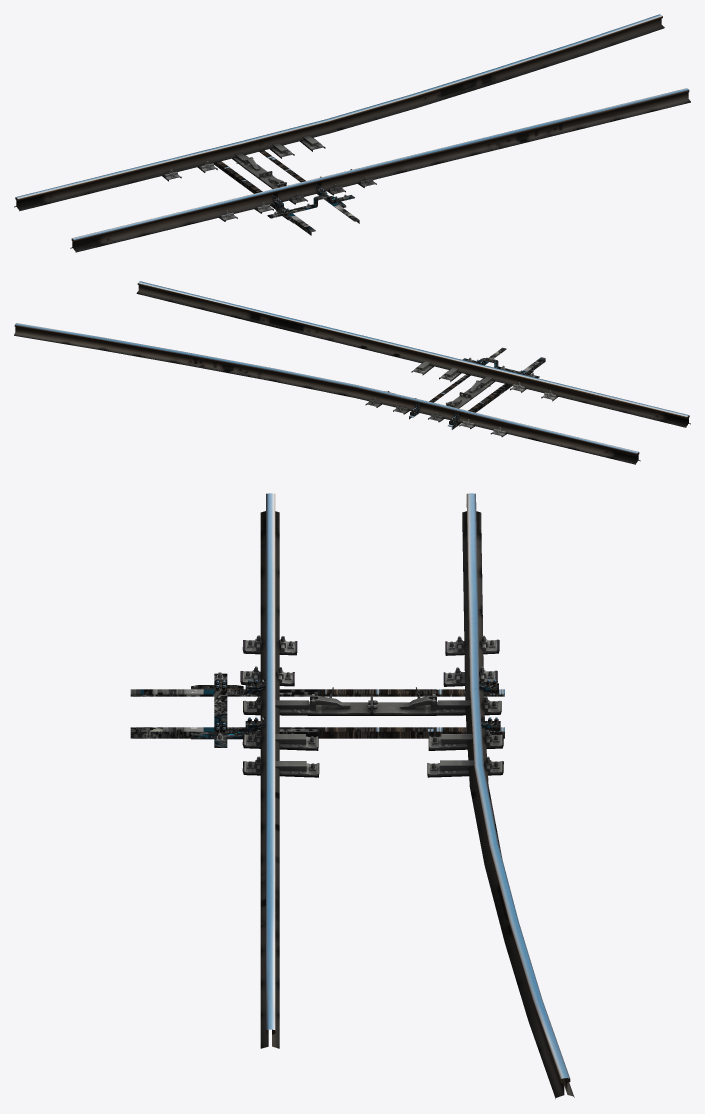
Rendered from sep_hi.fbx.
3 renders of one model, top to bottom at view 1: azimuth 30°, elevation 25°; view 2: azimuth 150°, elevation 25°; view 3: azimuth 270°, elevation 25°, orthographic. The views are drawn at different scales.
Parts seen in each view (by area): view 1: sep_hi; view 2: sep_hi; view 3: sep_hi.
Part boxes in pixels (x1,y1,x2,y2): sep_hi: (14, 14, 690, 252); sep_hi: (14, 281, 690, 464); sep_hi: (130, 493, 574, 1098).
Bounding box in the file's own units: 11.16 × 0.2632 × 3.57.
